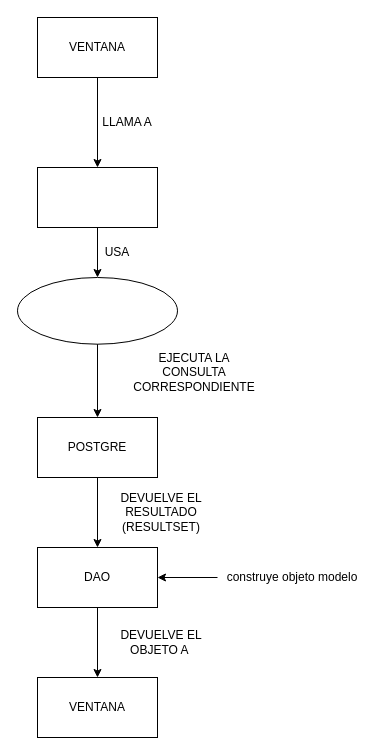
The diagram is 385 pixels wide and 755 high, and some of its shapes have lost their labels. The shapes that lost their labels are listed below. From the top down, each one's centre as x and y in pixels, then its label:
At (97,197): "DAO(método estatico)".
At (97,310): "ConexionBD.getConexion()".
